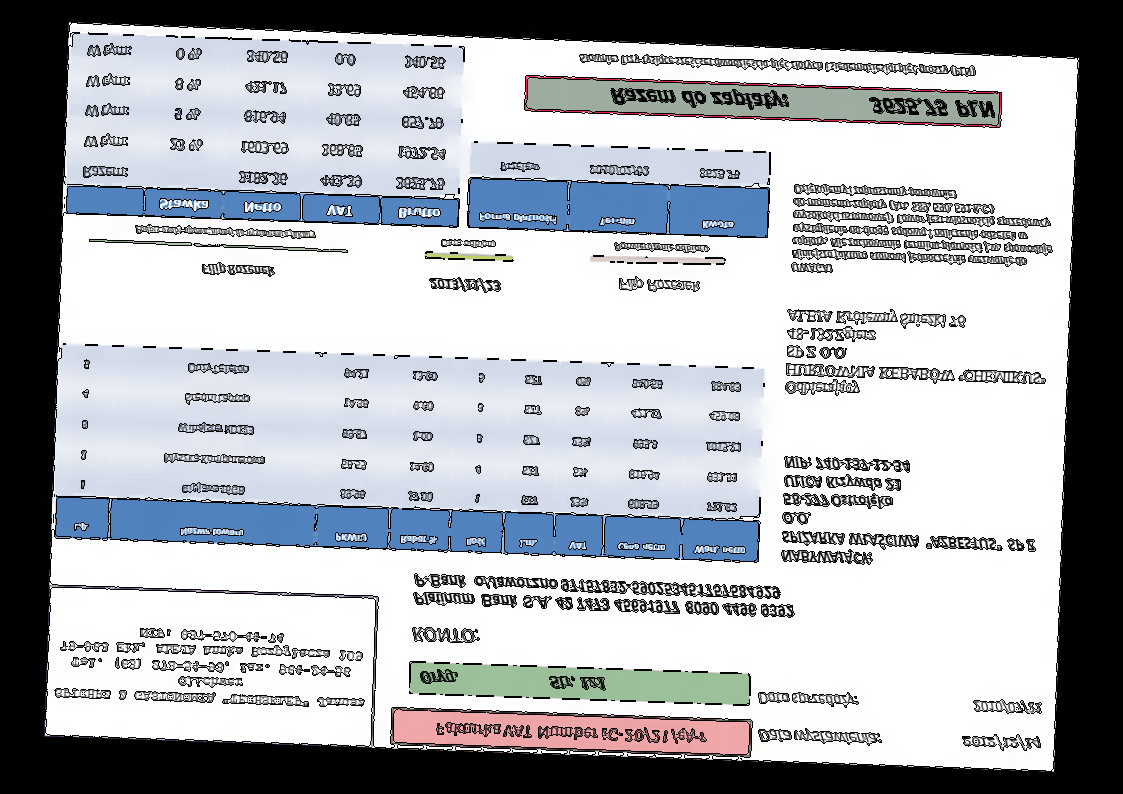Table: (53, 343, 767, 564), (63, 32, 465, 229), (466, 139, 773, 241)
TextBox: (779, 452, 1042, 573), (53, 621, 367, 713), (790, 182, 1055, 284), (783, 307, 1048, 404), (411, 568, 800, 621), (607, 83, 996, 123), (576, 49, 978, 79), (433, 717, 710, 749), (418, 667, 608, 694), (133, 223, 318, 243), (754, 726, 885, 749), (755, 687, 861, 709), (615, 275, 703, 297), (960, 732, 1043, 753), (612, 239, 711, 255), (200, 260, 275, 281), (426, 274, 501, 295), (970, 697, 1044, 718), (410, 624, 481, 645), (436, 235, 496, 252)
